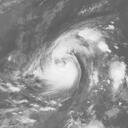cyclone: (32, 47, 82, 93)
